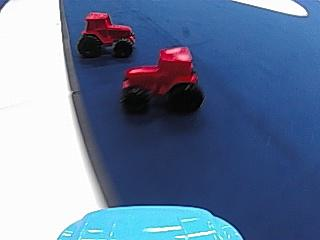Tracktor: (116, 43, 206, 114), (77, 8, 137, 58)
